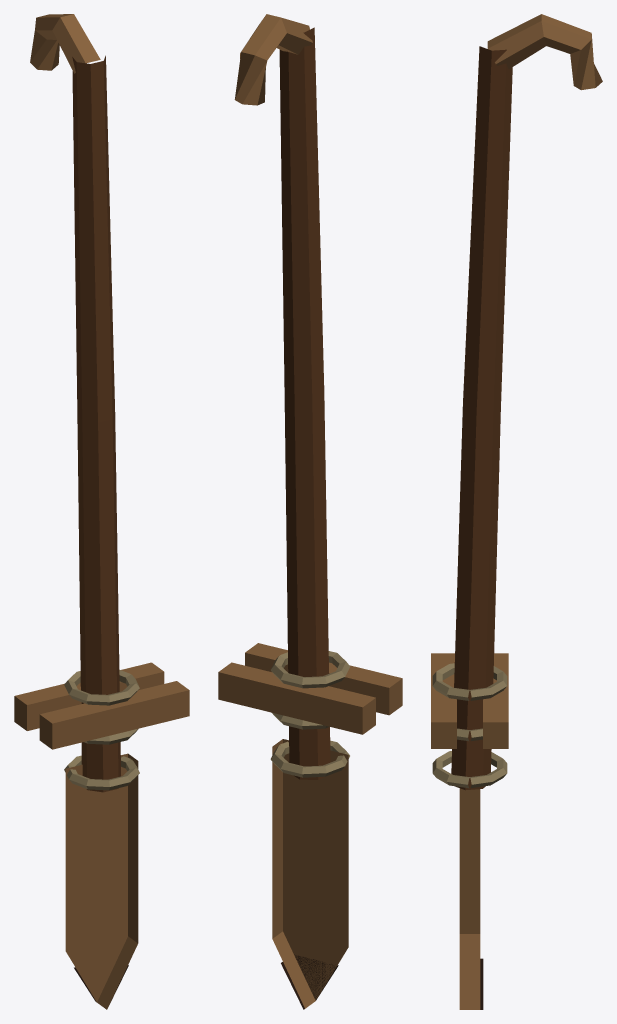
File: pch_prop_chaquitaclla.glb
The picture shows the model from 3 angles, left to right: view 1: azimuth 30°, elevation 25°; view 2: azimuth 150°, elevation 25°; view 3: azimuth 270°, elevation 25°; orthographic projection. The views are drawn at different scales.
Parts seen in each view (by area): view 1: pch_prop_chaquitaclla; view 2: pch_prop_chaquitaclla; view 3: pch_prop_chaquitaclla.
Boxes of the visible parts, bbox=[...] form: pch_prop_chaquitaclla: bbox=[14, 14, 189, 1009]; pch_prop_chaquitaclla: bbox=[218, 14, 402, 1009]; pch_prop_chaquitaclla: bbox=[431, 14, 602, 1009].
Size of the model in its own units: 0.22 by 1.48 by 0.2322.
